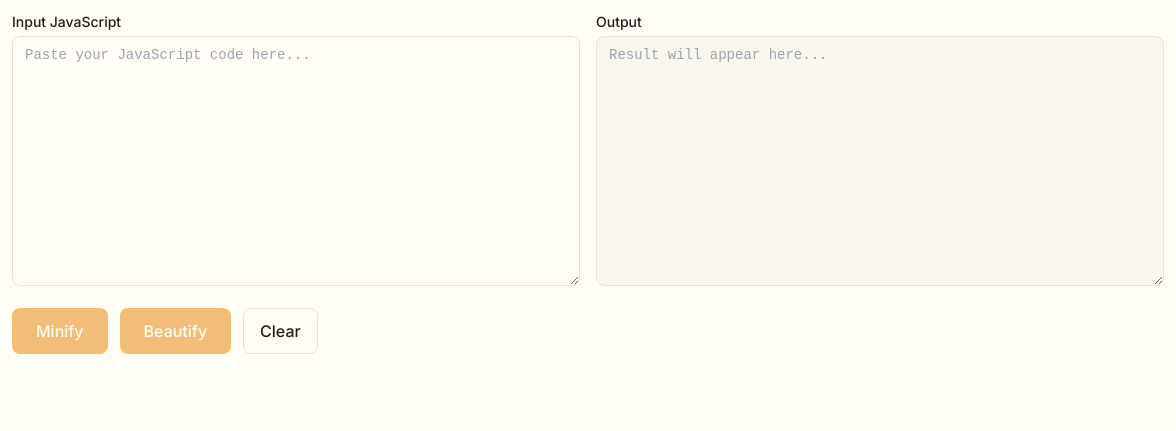
Scenario: JsMinifier › shows statistics after beautification
In the text box named "JavaScript input": (296,161) [12,36,580,286], type "var x=1;"
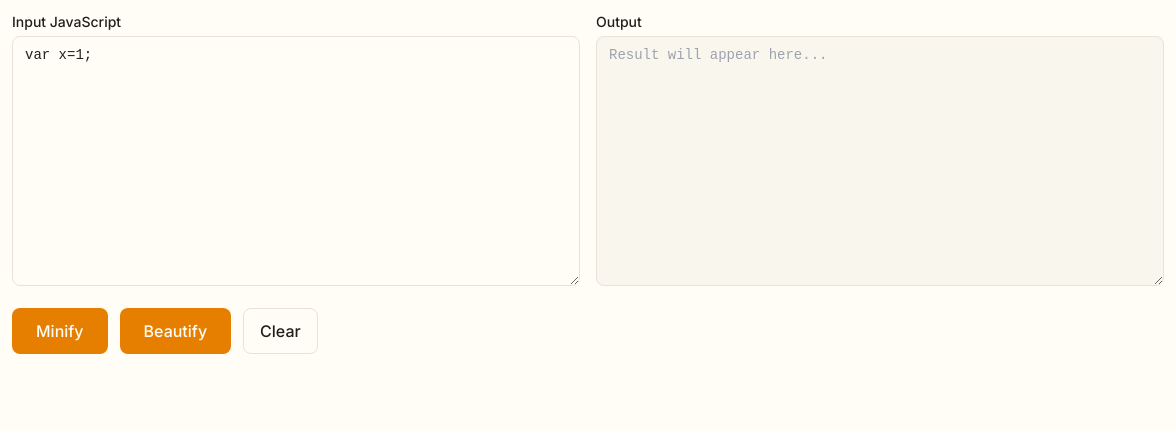
Click the button "Beautify": (175,331) [120,308,231,354]
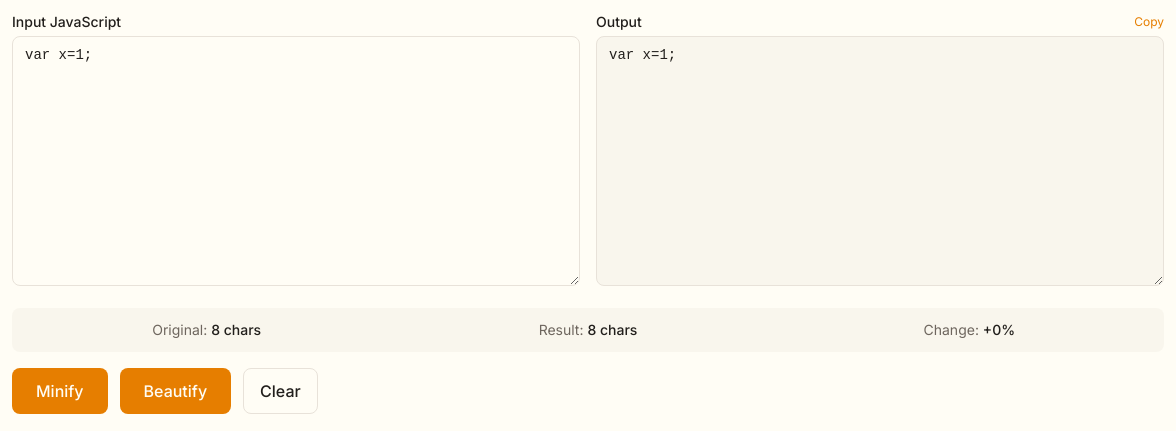
Now the text "Original:" is shown, box [152,321,211,338]
